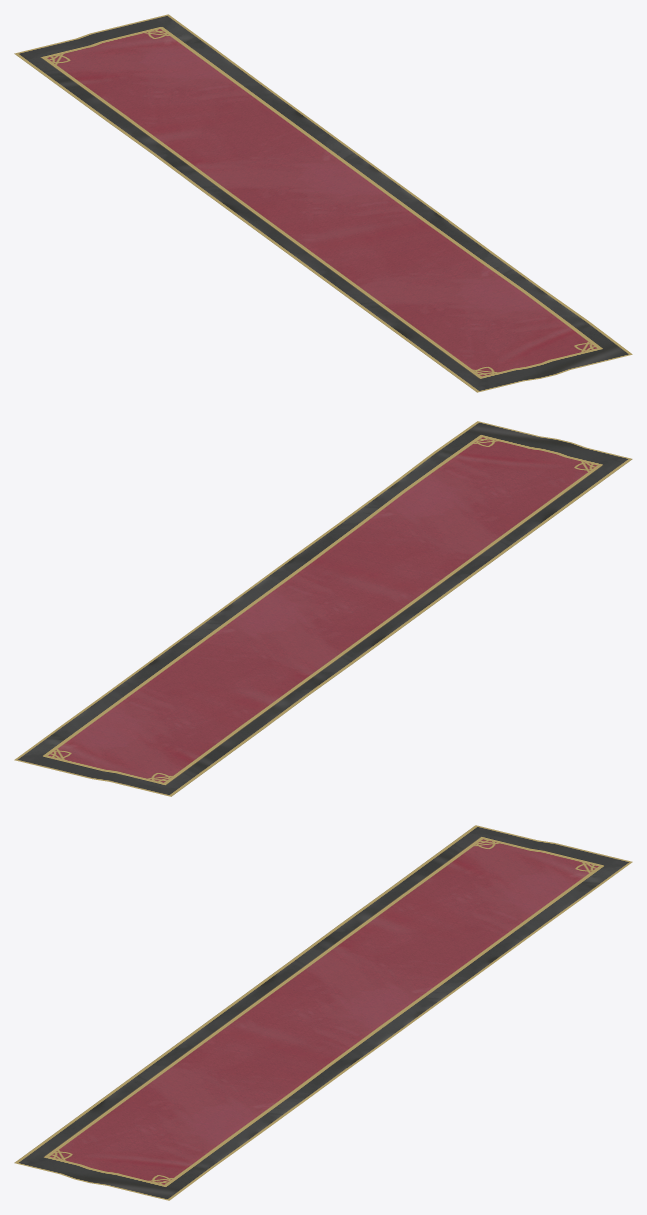
File: SM_RugLongB.fbx
3 renders of one model, top to bottom at view 1: azimuth 30°, elevation 25°; view 2: azimuth 150°, elevation 25°; view 3: azimuth 330°, elevation 25°, orthographic.
Parts seen in each view (by area): view 1: SM_RugLongB_LOD0; view 2: SM_RugLongB_LOD0; view 3: SM_RugLongB_LOD0.
Boxes of the visible parts, x1,y1,x2,y2 form: SM_RugLongB_LOD0: [14, 14, 632, 392]; SM_RugLongB_LOD0: [14, 421, 632, 796]; SM_RugLongB_LOD0: [14, 825, 632, 1200].
Size of what is drawn, in the model's own units: 2.03 by 0.0128 by 10.51.
